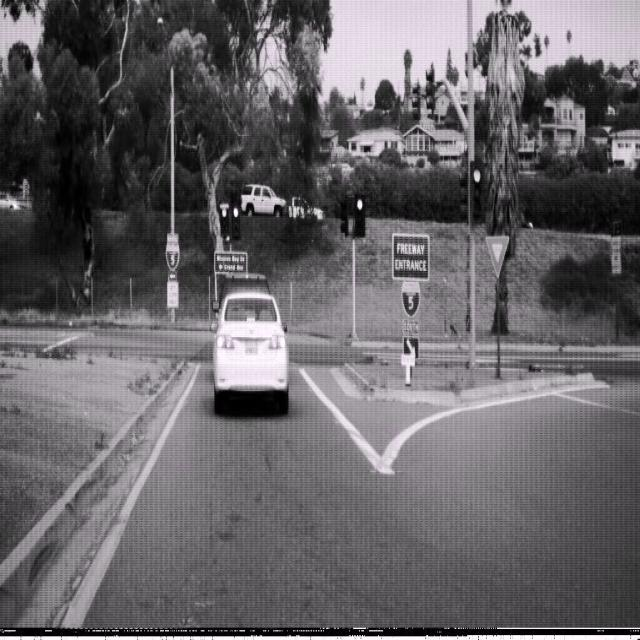yield: (485, 234, 509, 277)
